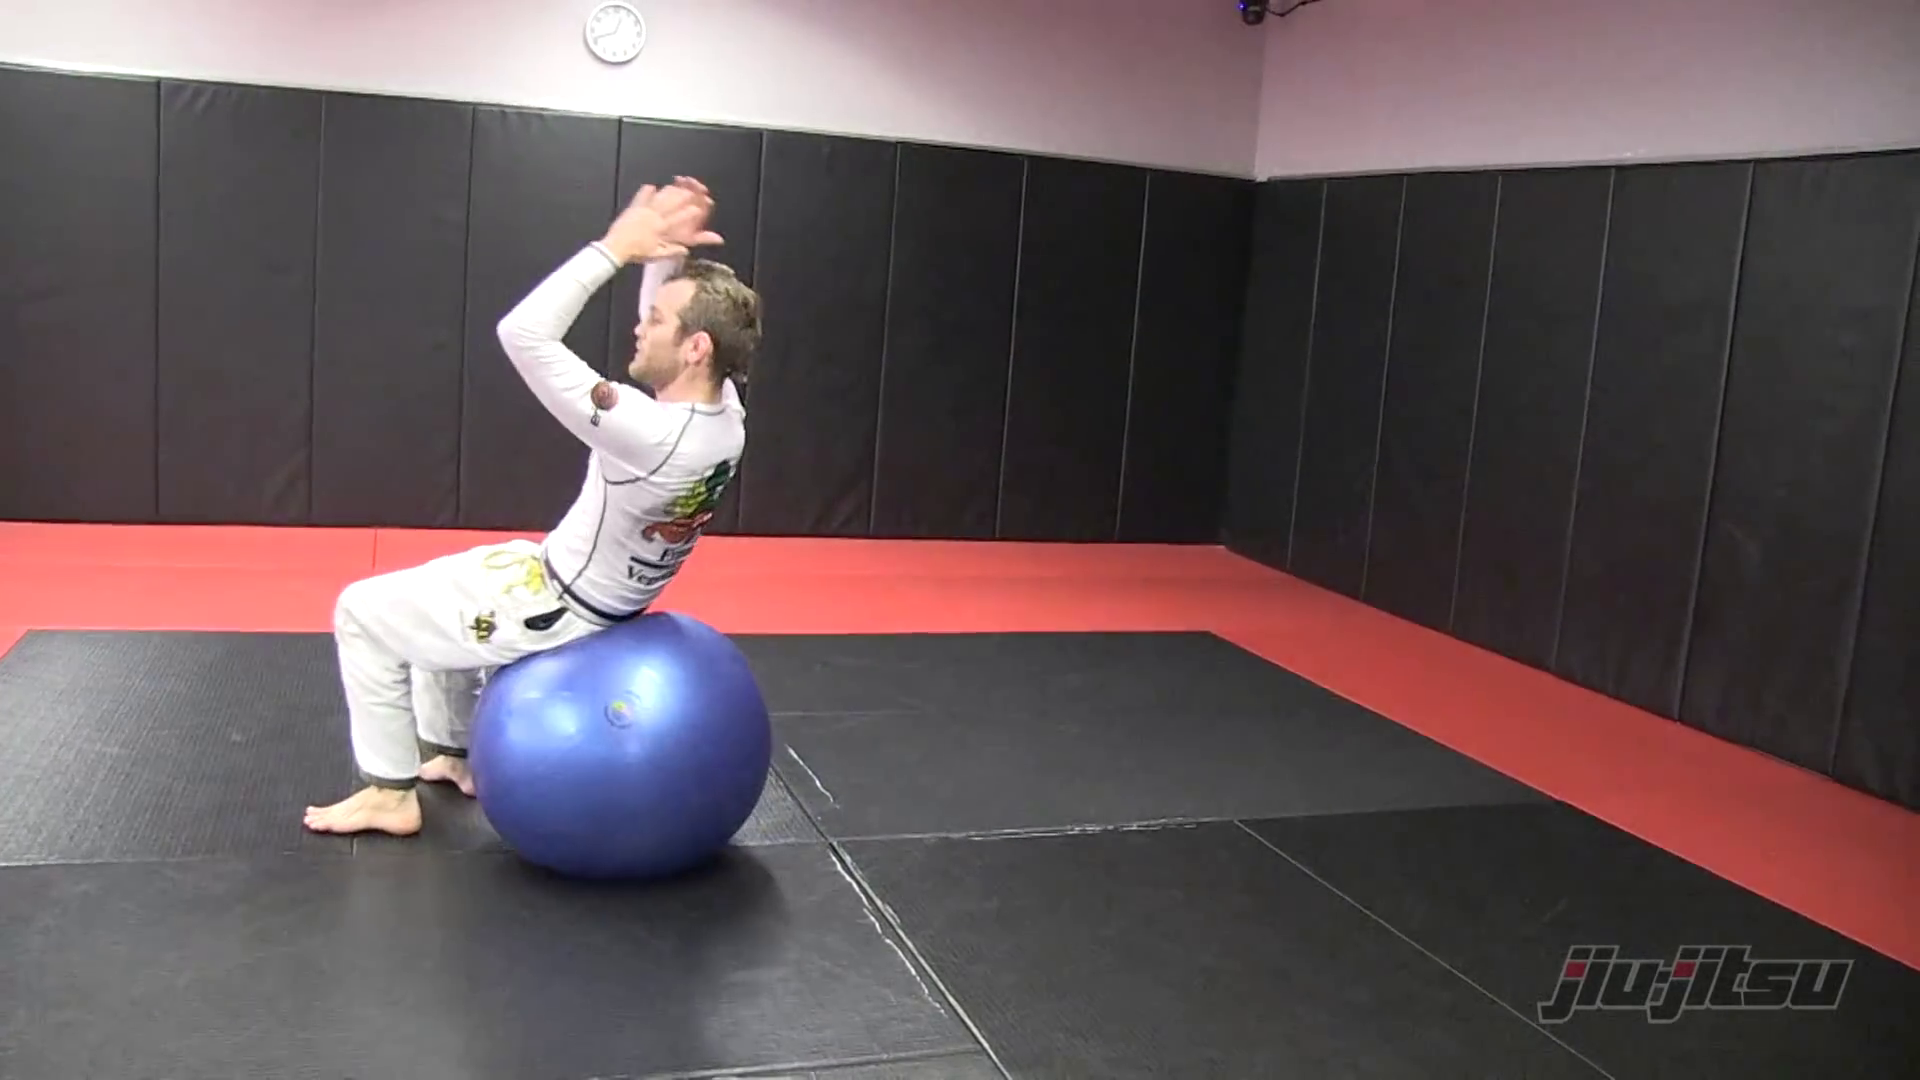yogaball: (446, 600, 800, 895)
